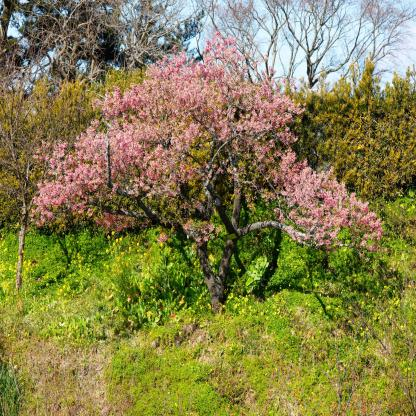KanhiSakura: (30, 30, 384, 261)
